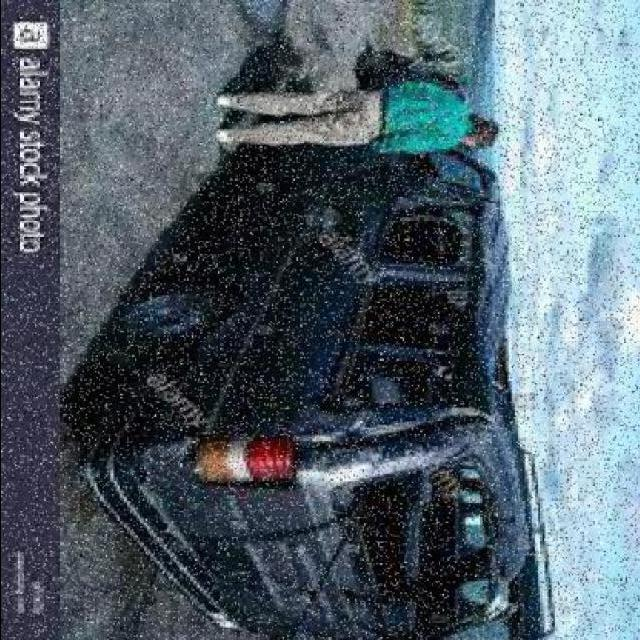pillar-dent: (285, 401, 478, 485), (360, 259, 480, 286)
